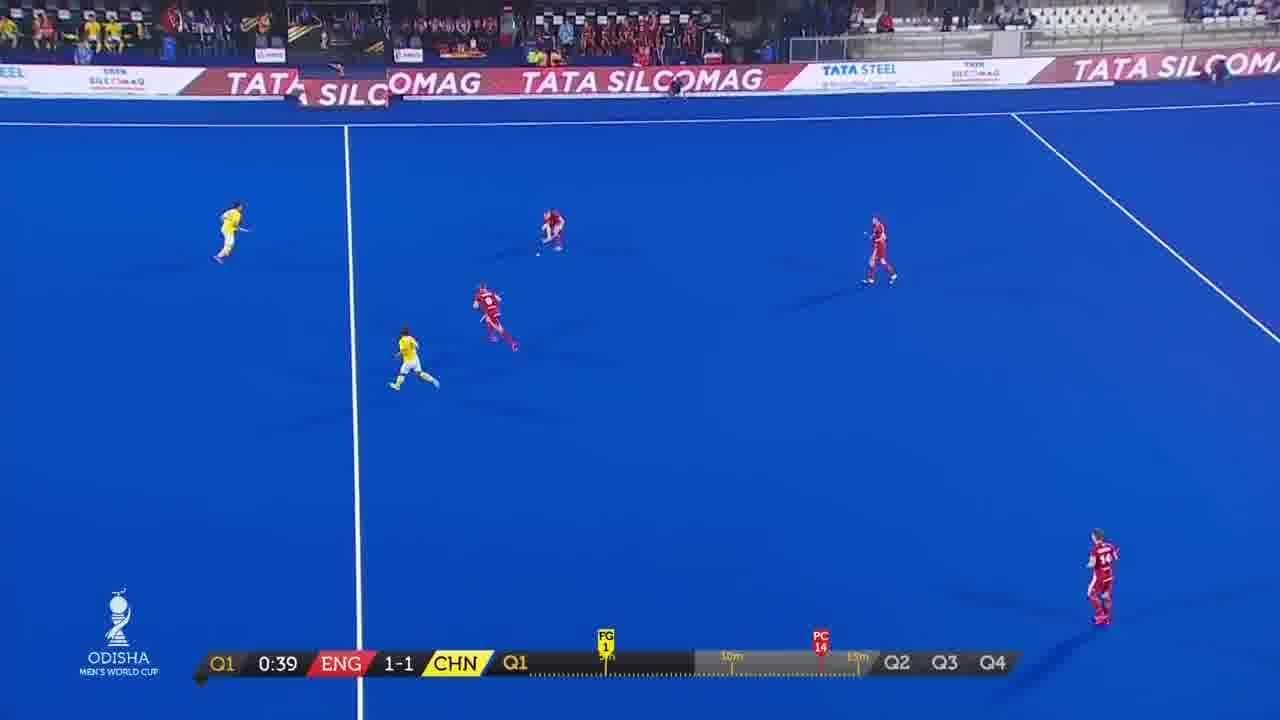ball: (531, 248, 546, 262)
